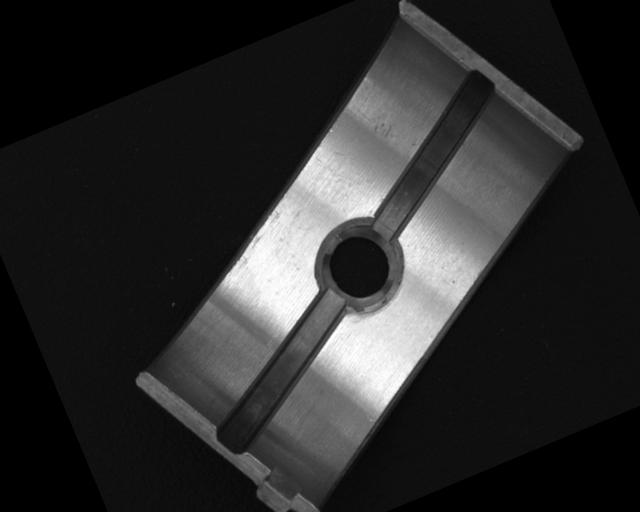gap: (331, 67, 533, 243), (183, 286, 379, 458)
hole: (308, 213, 412, 319)
